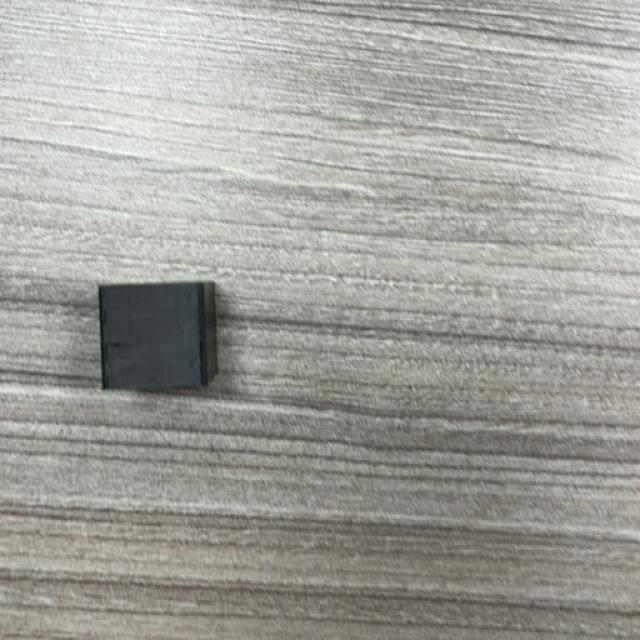Negro: (98, 281, 221, 396)
